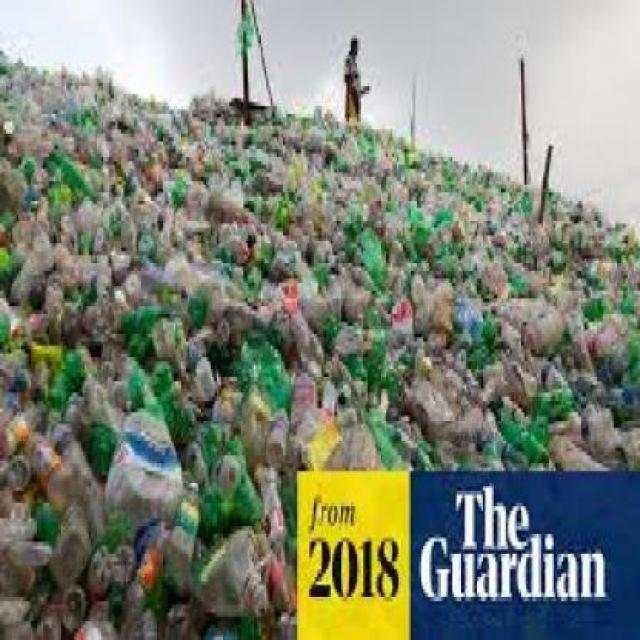garbage: (0, 48, 291, 629), (297, 114, 638, 463)
